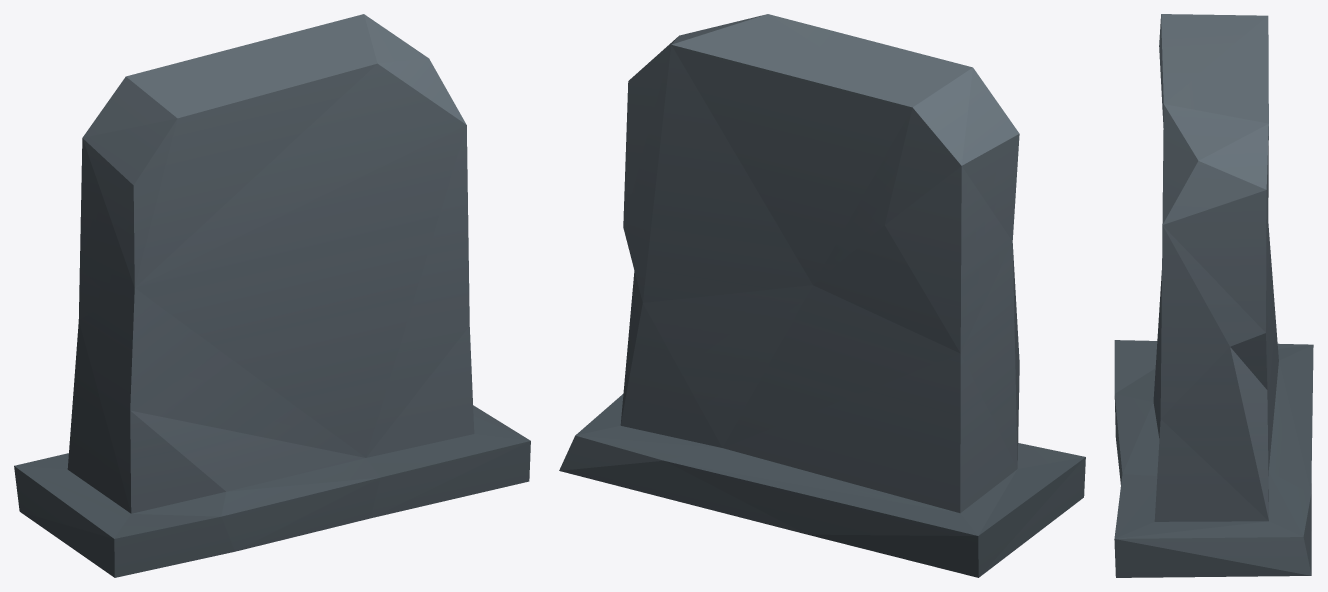
The model's file is Graveyard_01.fbx.
3 views of the same model, side by side, from view 1: azimuth 30°, elevation 25°; view 2: azimuth 150°, elevation 25°; view 3: azimuth 270°, elevation 25° (orthographic). The views are drawn at different scales.
Parts seen in each view (by area): view 1: Graveyard_01; view 2: Graveyard_01; view 3: Graveyard_01.
Part boxes in pixels (box(x1,y1,x2,y2)): Graveyard_01: box(14, 14, 530, 577); Graveyard_01: box(559, 14, 1085, 577); Graveyard_01: box(1114, 14, 1313, 577).
Size of the model in its own units: 65.69 by 65.05 by 28.12.
